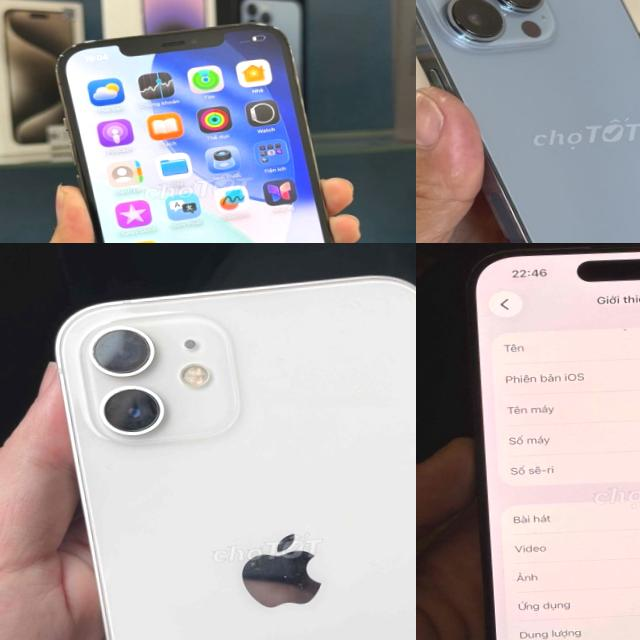gen_12_13: (57, 276, 416, 640), (55, 18, 363, 243), (416, 0, 640, 243)
gen_15: (455, 243, 640, 640)
scratch: (210, 511, 336, 634)
